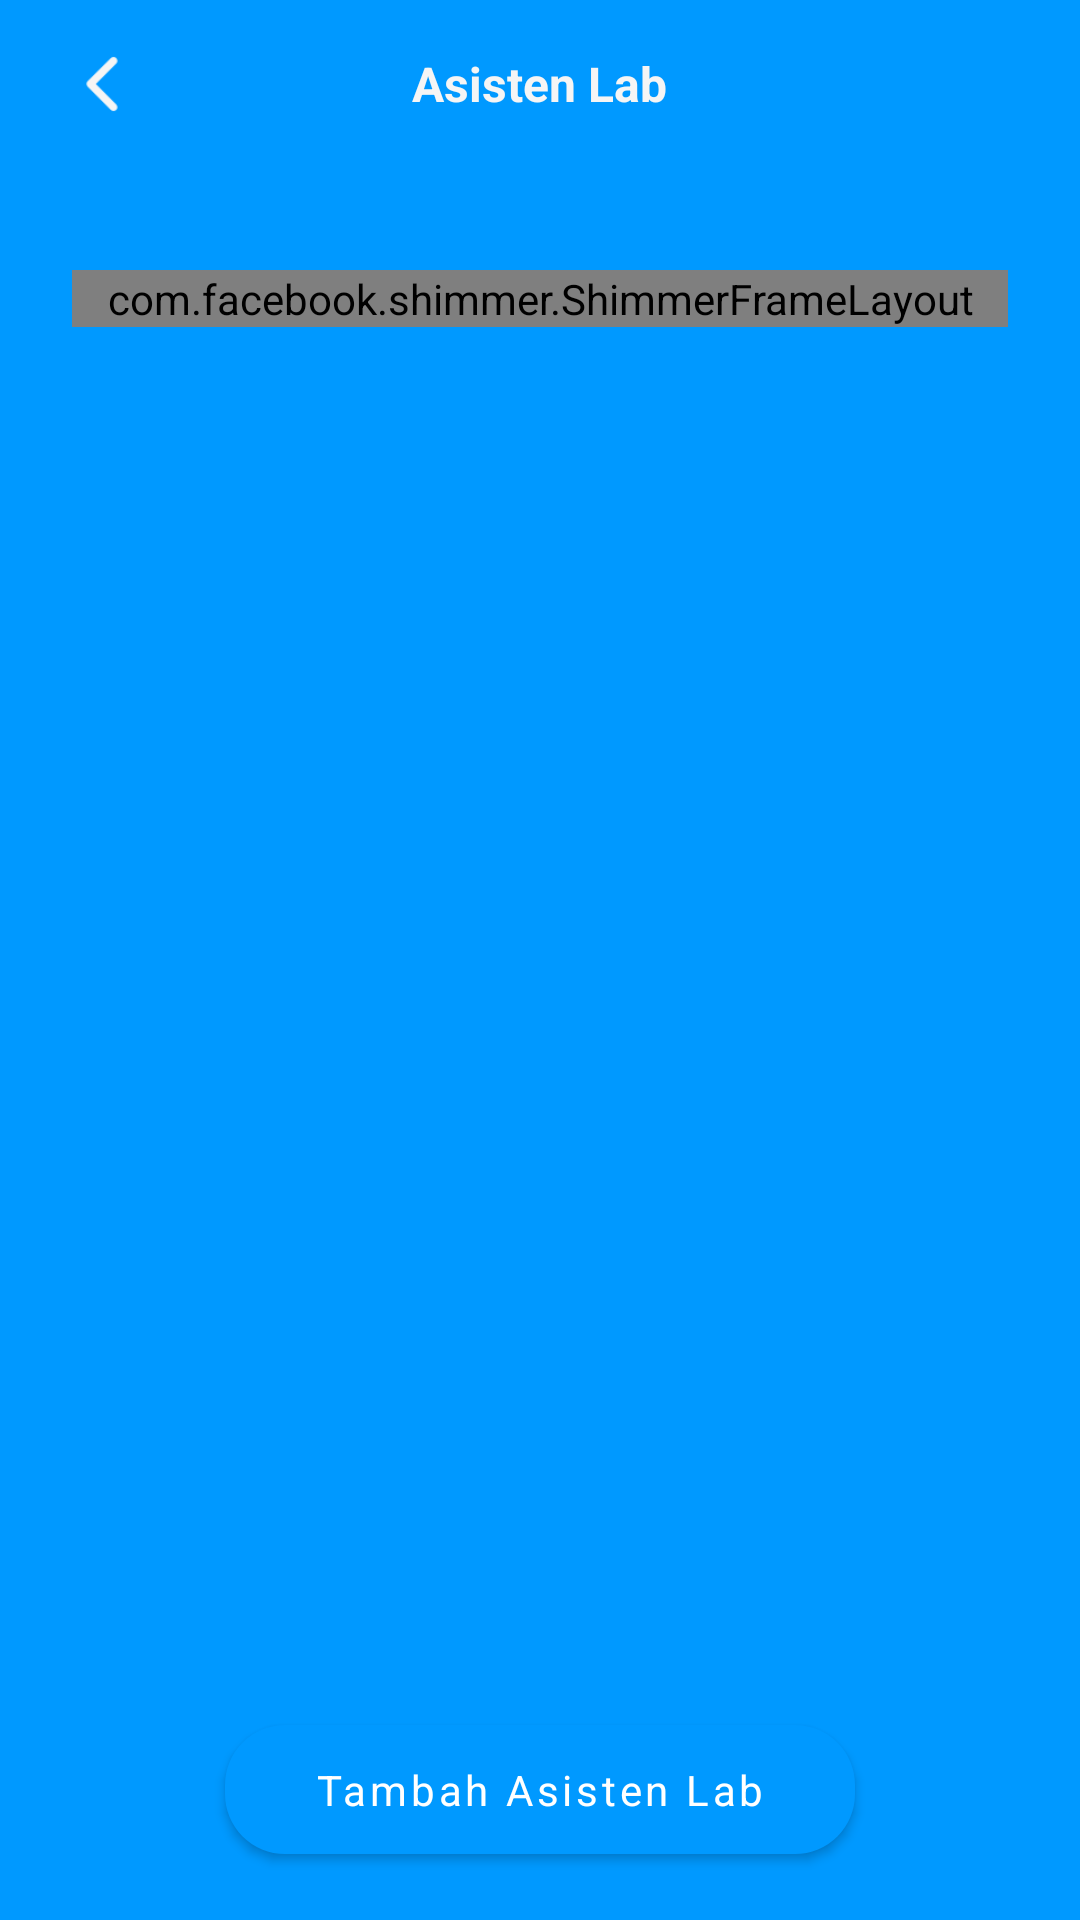

Point at icon controls on the screen. Image size 1080 x 1920, points as [x,y].
arrow back: [102,84]
